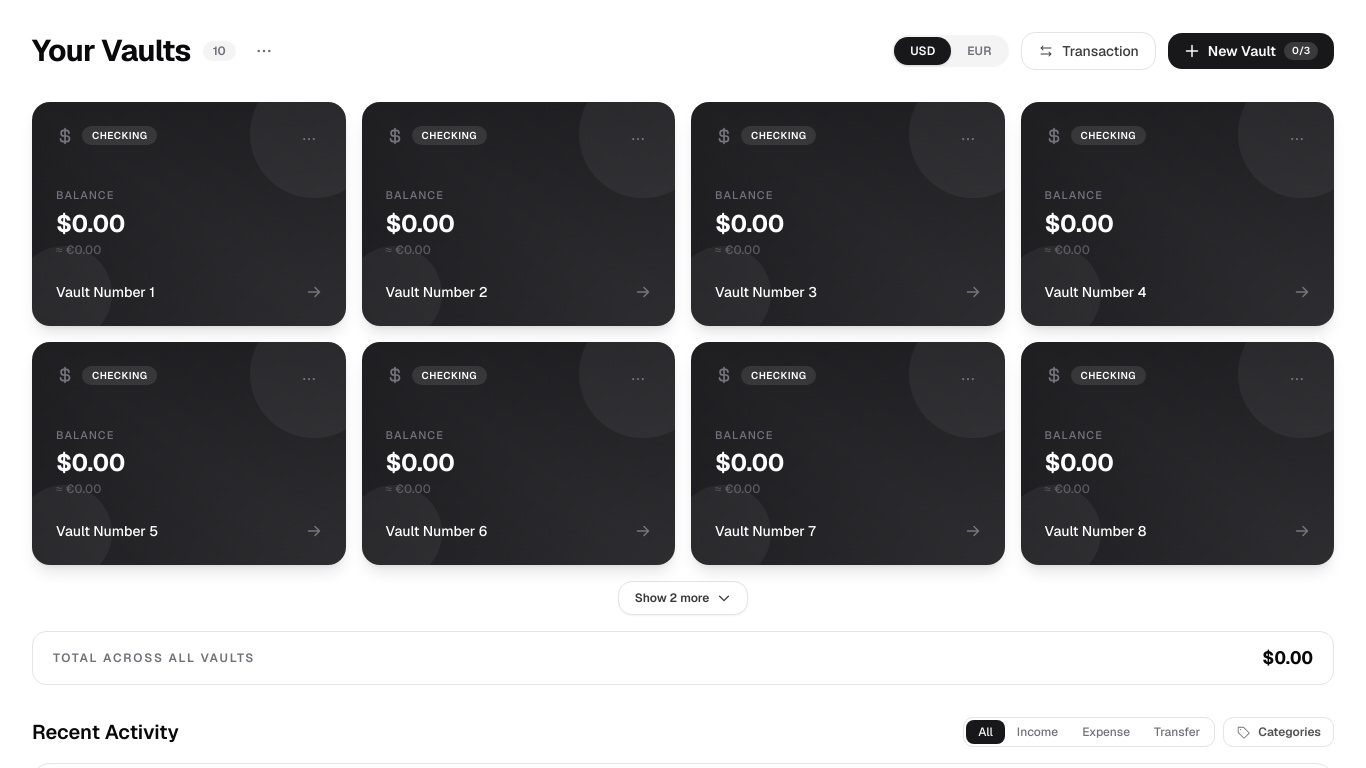
Vaults Visibility and Row Limiting › allows choosing visible limit via 3-dots menu and persists preference
Expected: the heading "Your Vaults" is shown, [32, 33, 191, 69]
# Open 3-dots contextual menu
Click the button named "View options". click: (264, 51)
box: [248, 35, 280, 67]
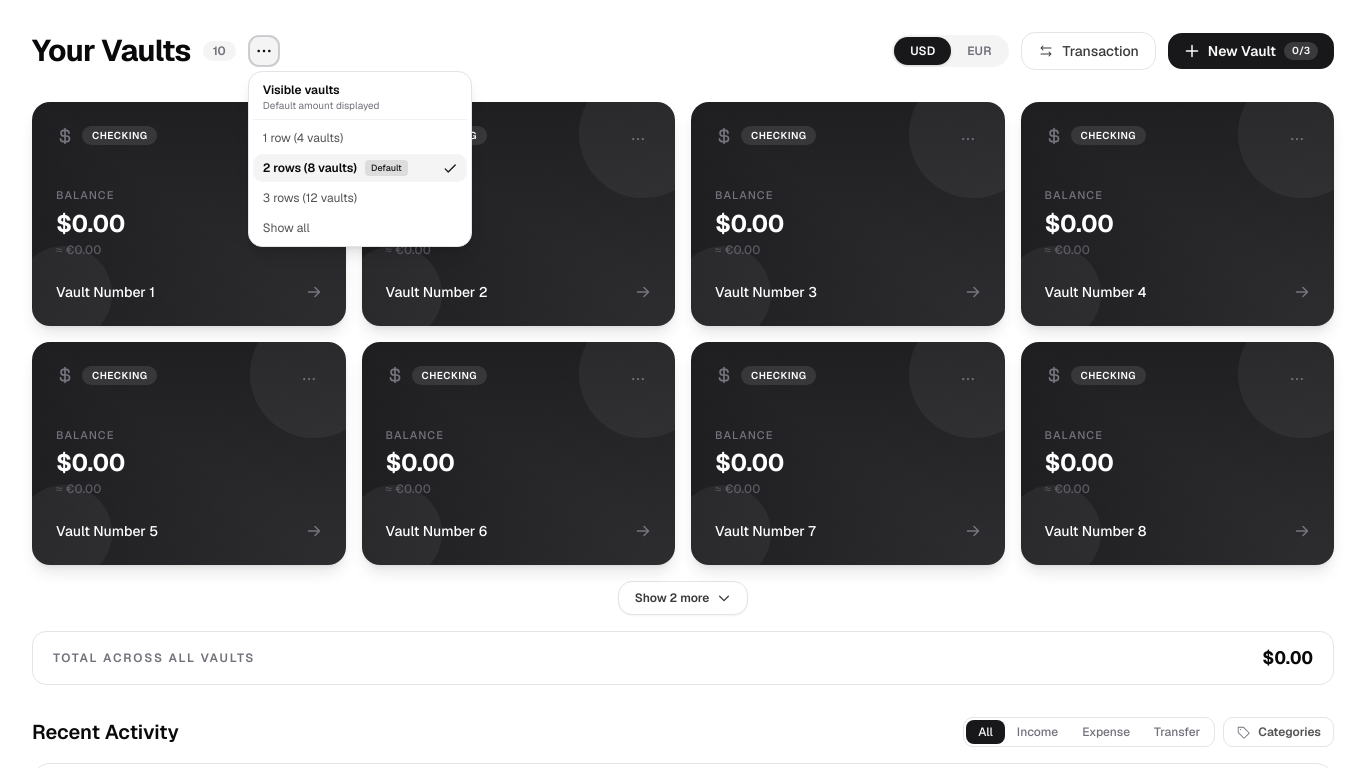
# Select "1 row (4 vaults)"
Click the button "1 row (4 vaults)". click: (360, 138)
box: [253, 124, 467, 152]
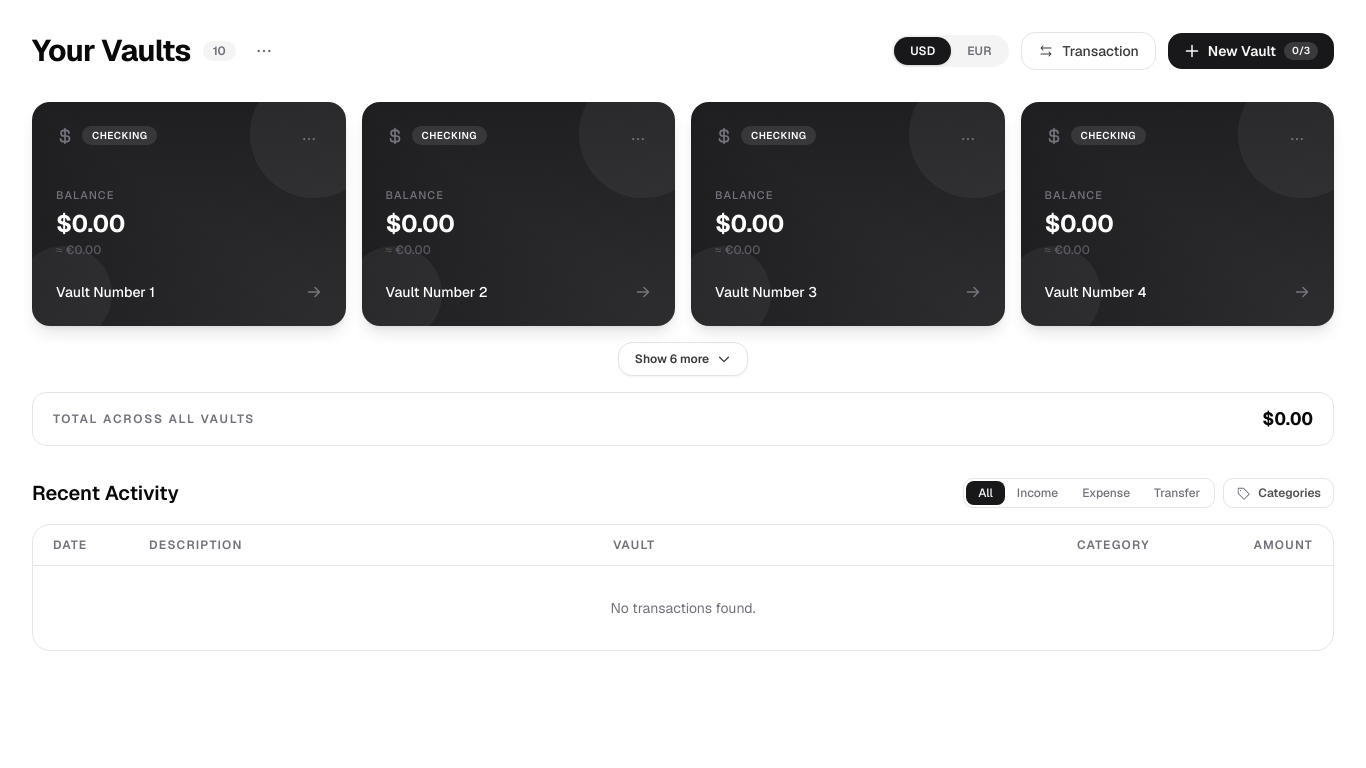
Expected: the text "Vault Number 1" is shown, [56, 282, 155, 302]
Result: the text "Vault Number 5" is gone
Result: the button "Show 6 more" is shown at [618, 342, 748, 376]
# Switch to "Show all"
Click the button named "View options". click: (264, 51)
box: [248, 35, 280, 67]
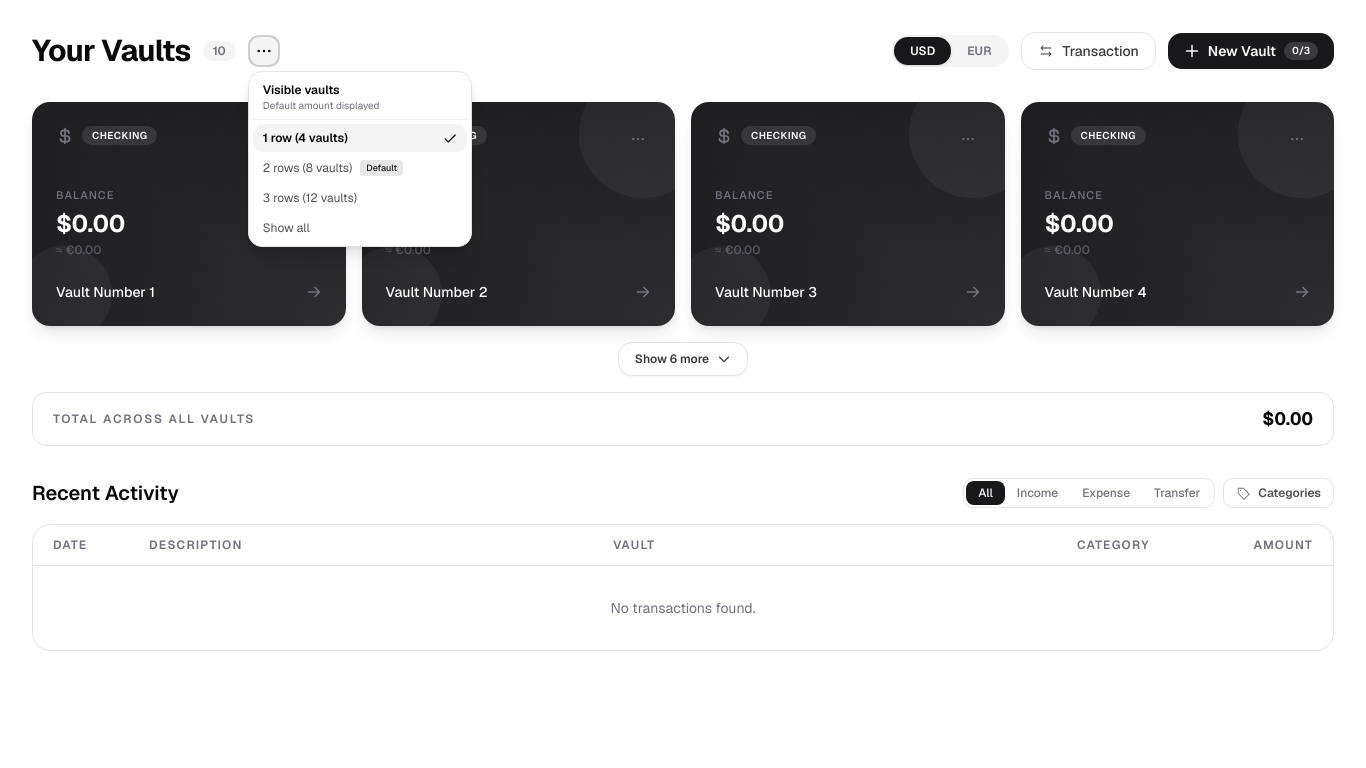
Click the button "Show all". click: (360, 228)
box: [253, 214, 467, 242]
(page scrolled)
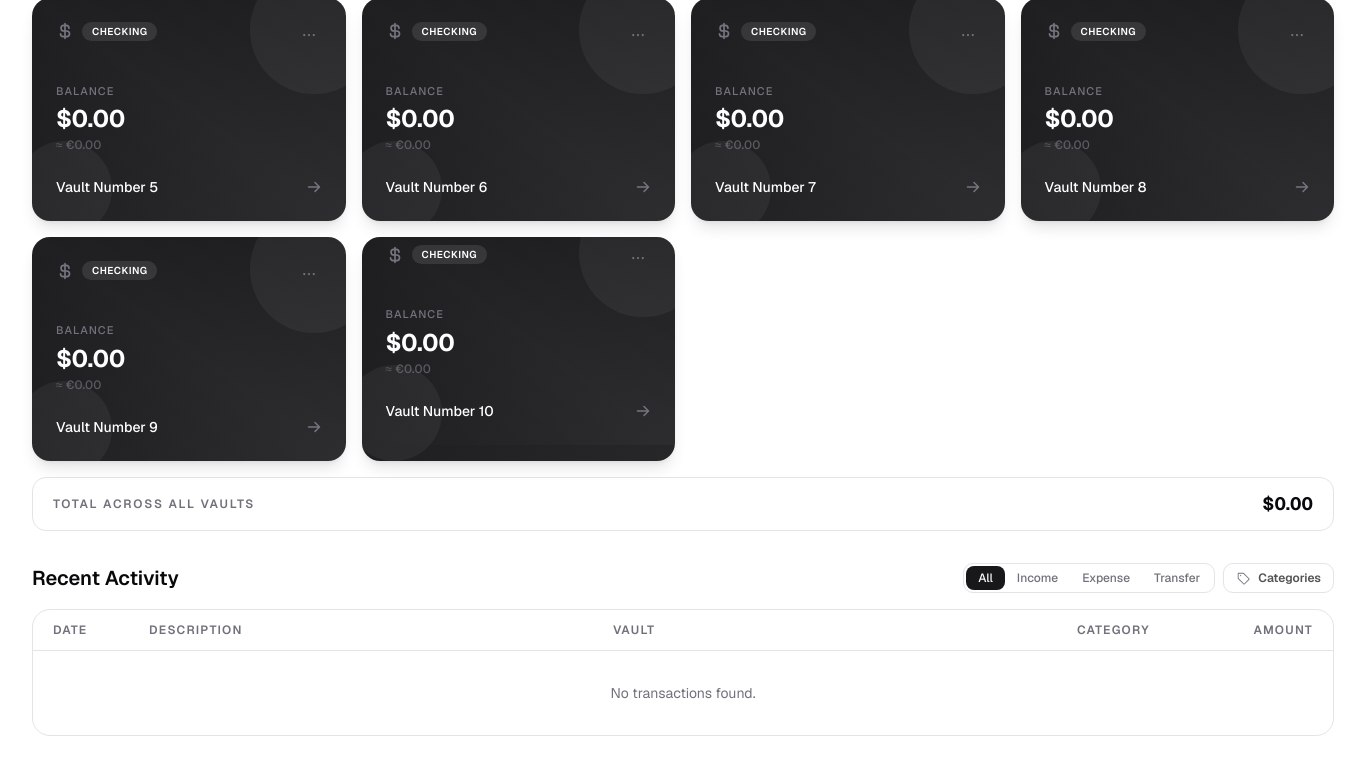
Result: the text "Vault Number 10" is shown at [386, 400, 494, 420]
Result: the button "Show 6 more" is gone
